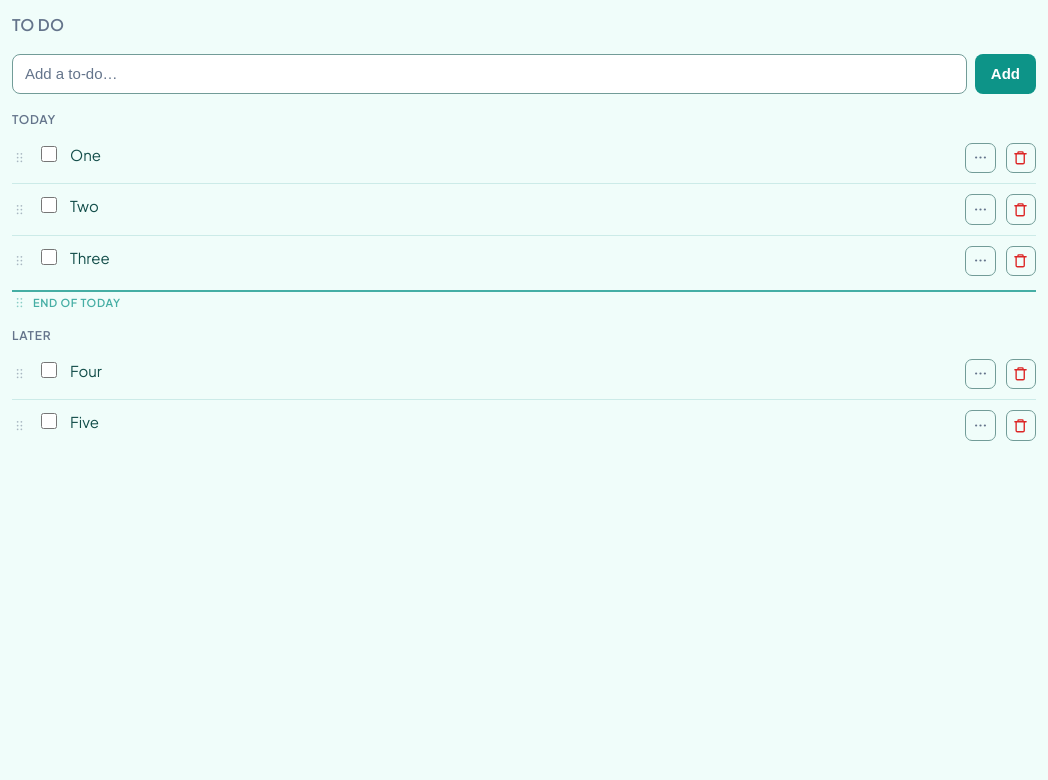
Test: TodoSection — move a to-do across the Today line (50-B) › click-outside closes the menu
This screenshot has width=1048, height=780.
Check: the button "One" is shown, box top-left (70, 143), bottom-right (955, 167)
What coordinates should you click on to do the following:
click the button named "Actions for \"Five\""
I would click on:
 (980, 425)
Its box is top-left (965, 410), bottom-right (996, 440).
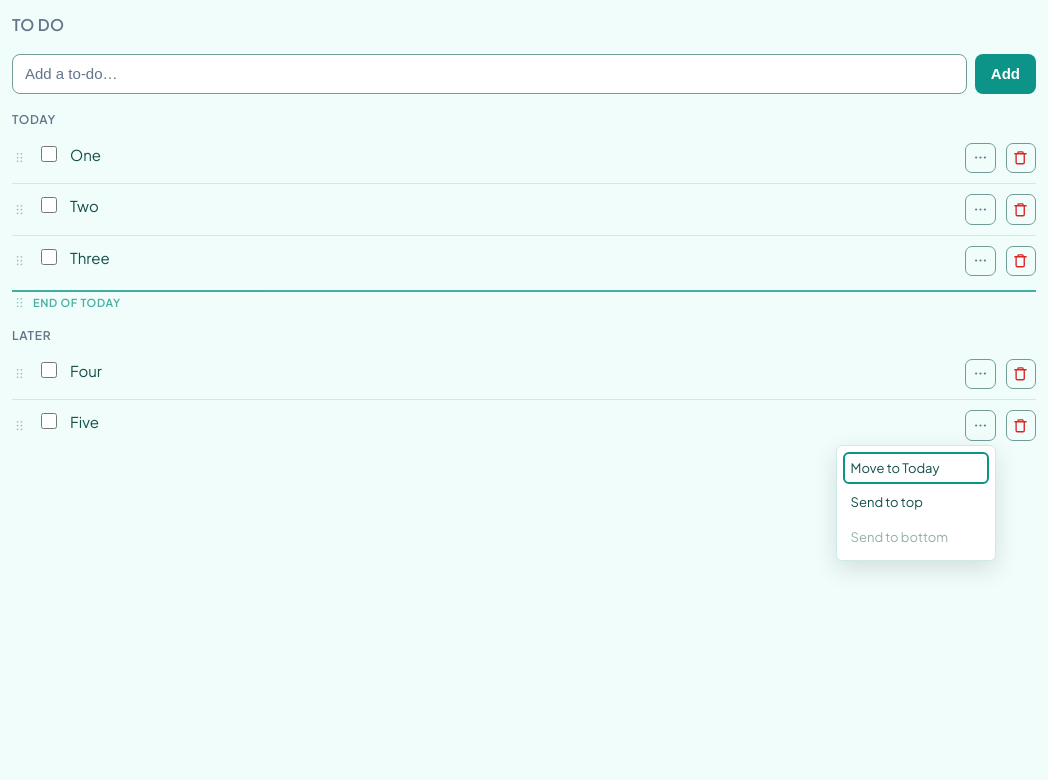
Check: the number of menu items is 3, box top-left (843, 452), bottom-right (989, 484); top-left (843, 486), bottom-right (989, 519); top-left (843, 521), bottom-right (989, 554)
What coordinates should you click on to do the following:
click the heading "Today"
I would click on:
 (34, 119)
Its box is top-left (12, 112), bottom-right (56, 127).
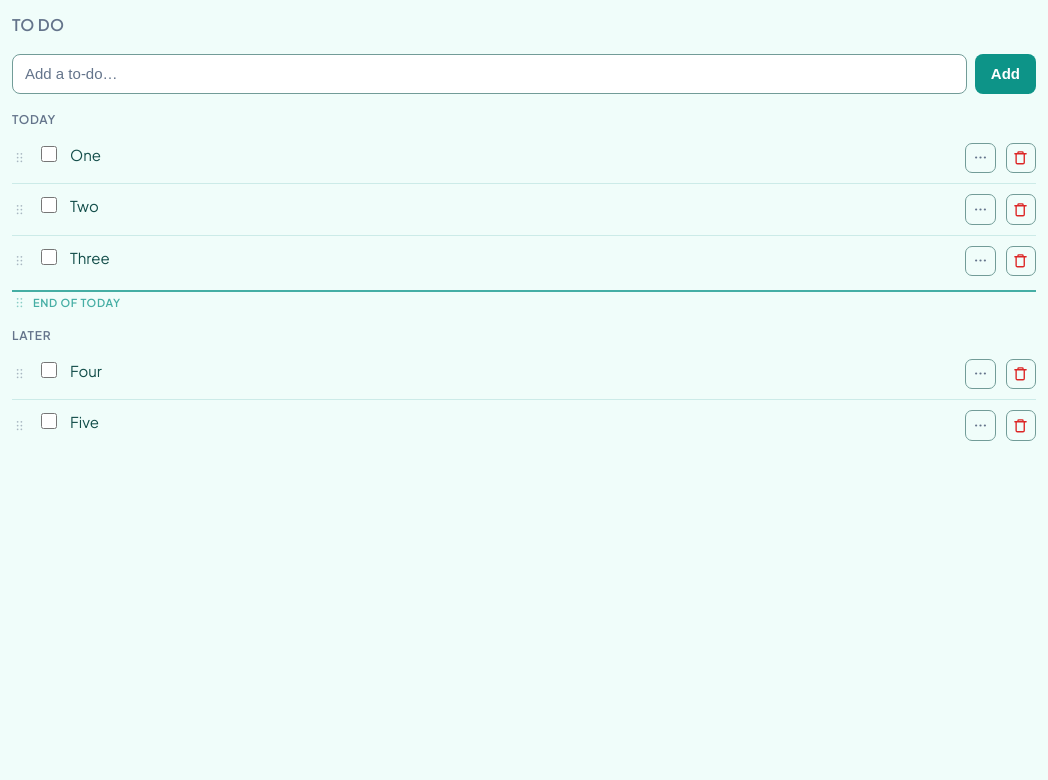
Check: the menu item is gone
